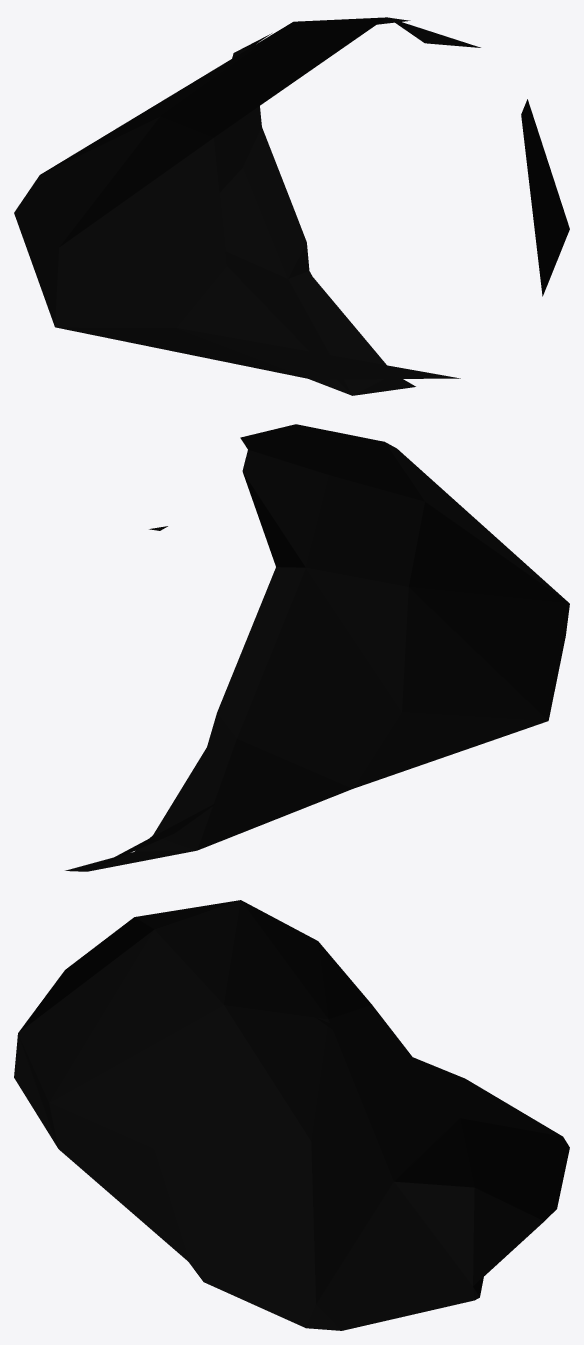
3 views of the same model, one above another, from view 1: azimuth 30°, elevation 25°; view 2: azimuth 150°, elevation 25°; view 3: azimuth 270°, elevation 25° (orthographic). The views are drawn at different scales.
Size of the model in its own units: 0.4065 by 0.3703 by 0.5446.
1 material, 1 textured.
